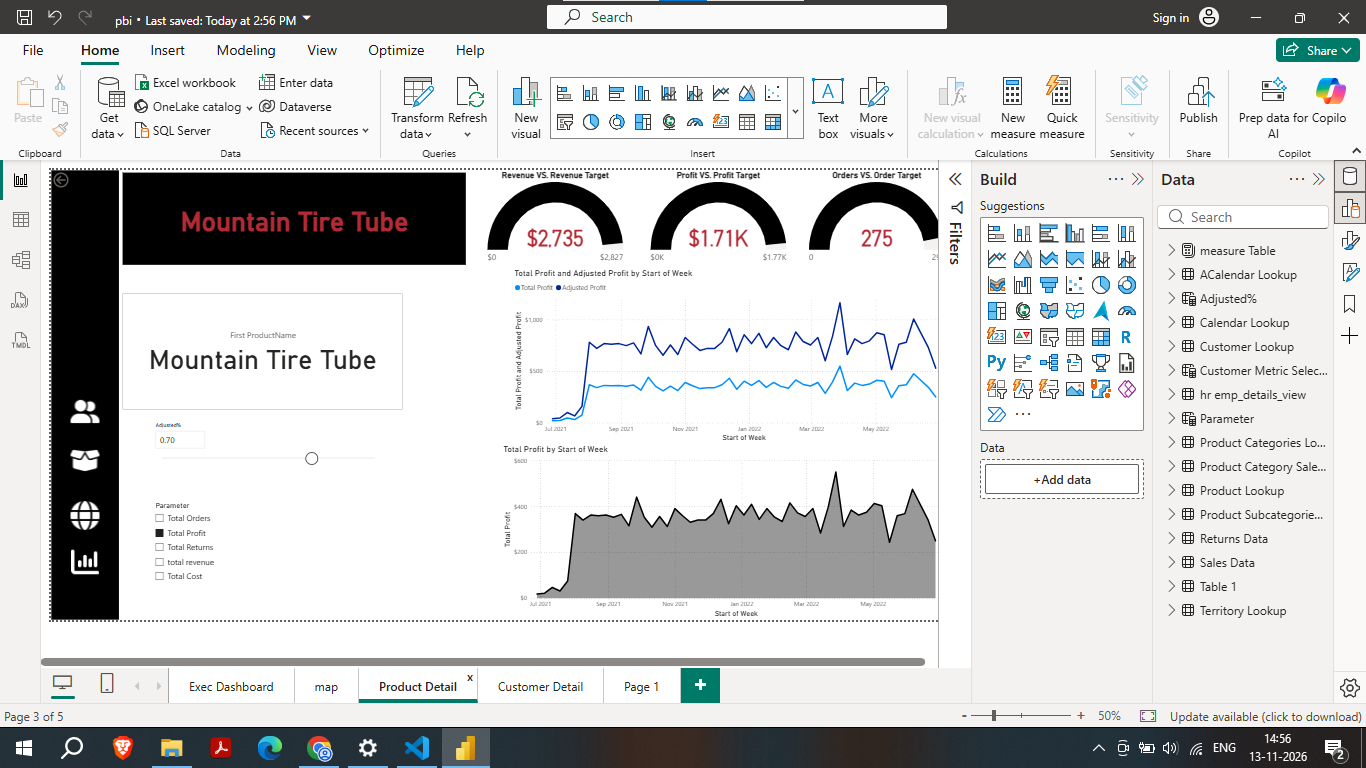

The page's visual inventory and layout, read from the dashboard file:
{"tool":"powerbi","page":{"name":"Product Detail","canvas":[1800,900],"ordinal":2},"visuals":[{"type":"shape","box":[0,0,137.1,900],"z":0},{"type":"gauge","title":" Orders VS. Order Target","fields":{"MaxValue":["measure Table.Order Target"],"Y":["measure Table.Total Orders"]},"box":[1504.3,0,295.7,195.7],"z":1000},{"type":"gauge","title":" Profit VS. Profit Target","fields":{"MaxValue":["measure Table.Profit Target"],"Y":["measure Table.Total Profit"]},"box":[1182.9,0,305.7,195.7],"z":2000},{"type":"gauge","title":"Revenue VS. Revenue Target","fields":{"MaxValue":["measure Table.Revenue Target"],"Y":["measure Table.total revenue"]},"box":[847.1,0,321.4,195.7],"z":3000},{"type":"cardVisual","fields":{"Data":["Min(Product Lookup.ProductName)"]},"box":[137.1,0,697.1,195.7],"z":4000},{"type":"lineChart","fields":{"Category":["Calendar Lookup.Start of Week"],"Y":["measure Table.Total Profit","Adjusted%.Adjusted Profit"]},"box":[921.4,195.7,878.6,352.9],"z":5000},{"type":"areaChart","fields":{"Category":["Calendar Lookup.Start of Week"],"Y":["measure Table.Total Profit"]},"box":[900,548.6,900,351.4],"z":6000},{"type":"actionButton","box":[0,0,100,40],"z":7000},{"type":"actionButton","box":[18,450,100,66],"z":8000},{"type":"actionButton","box":[18,548,100,66],"z":9000},{"type":"actionButton","box":[18,658,100,66],"z":10000},{"type":"actionButton","box":[18,752,100,64],"z":11000},{"type":"slicer","fields":{"Values":["Adjusted%.Adjusted%"]},"box":[196,498,474,136],"z":12000},{"type":"cardVisual","fields":{"Data":["Min(Product Lookup.ProductName)"]},"box":[138,242,570,242],"z":13000},{"type":"slicer","fields":{"Values":["Parameter.Parameter"]},"box":[196,658,150,242],"z":14000}]}

Visuals, with their boxes on the page's 1800x900 design canvas (x1, y1, x2, y2). These are canvas units, not pixel positions in the 1366x768 screenshot, which may show the page scaled, cropped or inside an application window:
shape: 0 0 137 900
" Orders VS. Order Target" gauge: 1504 0 1800 196
" Profit VS. Profit Target" gauge: 1183 0 1489 196
"Revenue VS. Revenue Target" gauge: 847 0 1168 196
cardVisual - Min(Product Lookup.ProductName): 137 0 834 196
lineChart - Calendar Lookup.Start of Week x measure Table.Total Profit: 921 196 1800 549
areaChart - Calendar Lookup.Start of Week x measure Table.Total Profit: 900 549 1800 900
actionButton: 0 0 100 40
actionButton: 18 450 118 516
actionButton: 18 548 118 614
actionButton: 18 658 118 724
actionButton: 18 752 118 816
slicer - Adjusted%.Adjusted%: 196 498 670 634
cardVisual - Min(Product Lookup.ProductName): 138 242 708 484
slicer - Parameter.Parameter: 196 658 346 900
